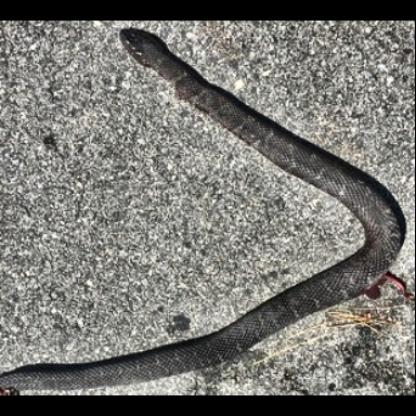Snake: (146, 0, 416, 352), (64, 111, 354, 360), (61, 41, 230, 379), (190, 104, 410, 314), (134, 15, 411, 158), (331, 300, 393, 327)
